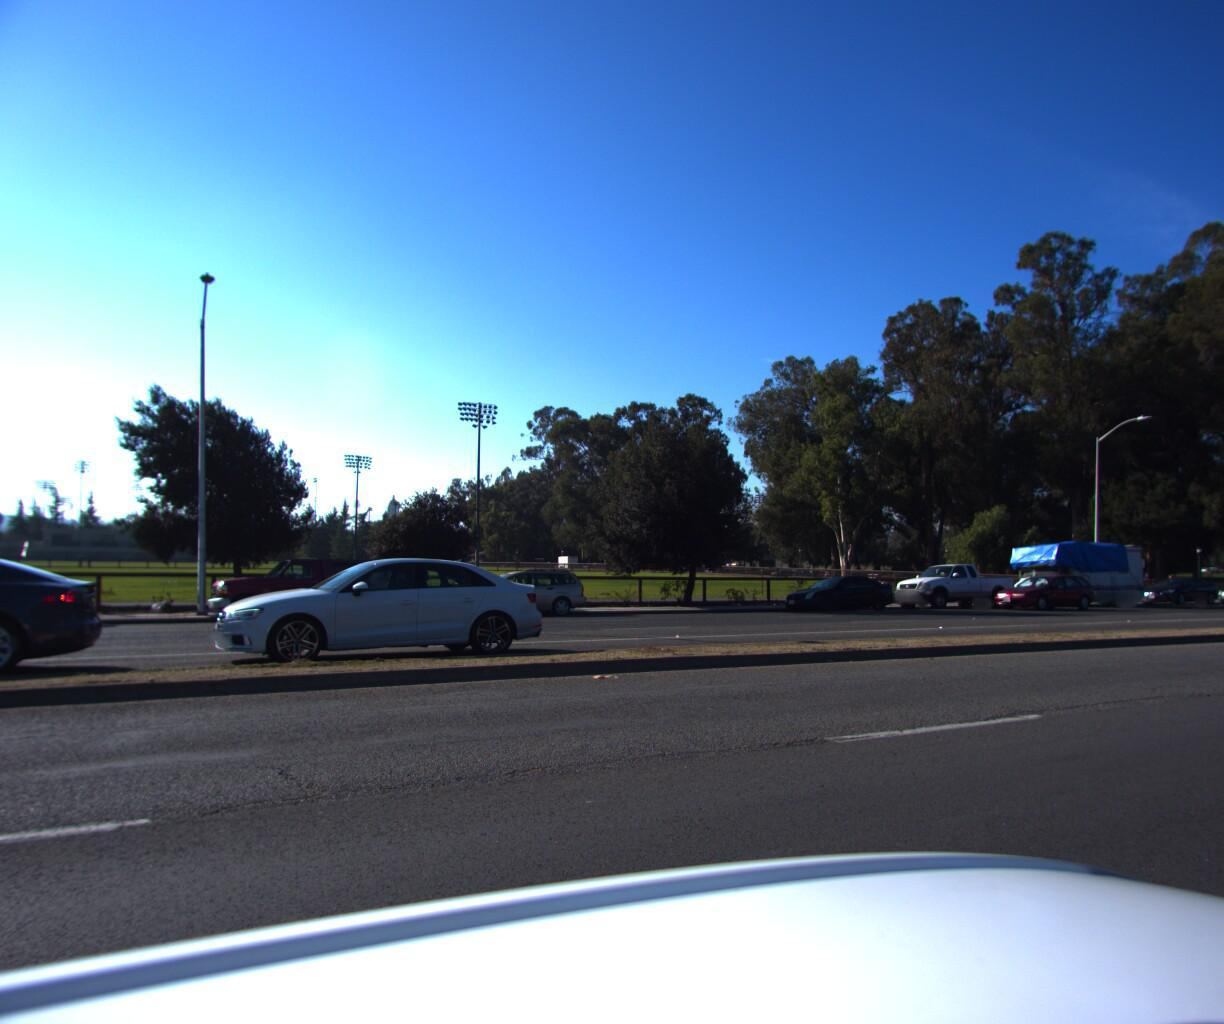car: (196, 547, 560, 672), (198, 553, 408, 631), (432, 566, 592, 622), (882, 556, 1021, 611), (773, 574, 899, 615), (978, 570, 1099, 612), (1128, 573, 1221, 605), (1206, 574, 1224, 603)
other_vehicle: (998, 532, 1149, 608)
